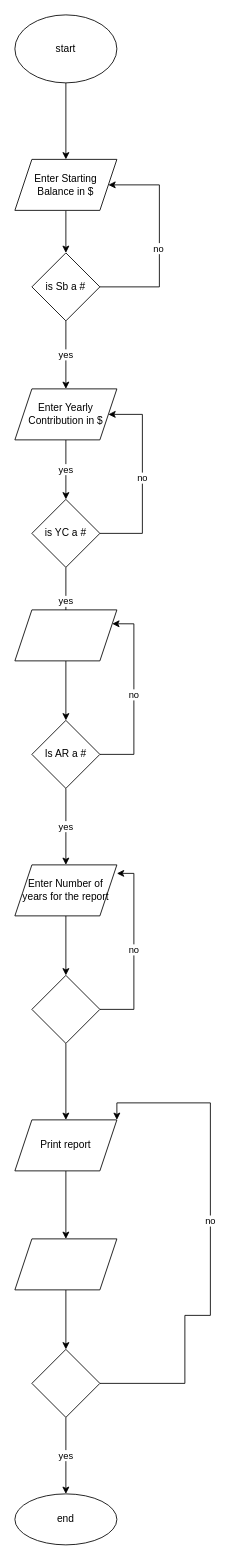
Some shapes in this 232 by 1560 pixel diagram are drawn without their labels. Here are the shapes that lost their labels. From the top down, the centre of each, then its label:
the point at 65,635: Enter Average Return on Investment as %
the point at 65,1009: are reports a #
the point at 65,1264: calculate balance over the years
the point at 65,1383: Is the balance of N+1 a #
